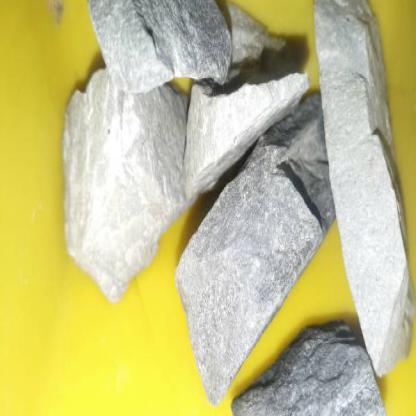Sedimentary_Limestone: (175, 80, 329, 405), (312, 6, 416, 382), (59, 71, 182, 305), (176, 47, 304, 202), (226, 320, 390, 414), (85, 3, 230, 99)
